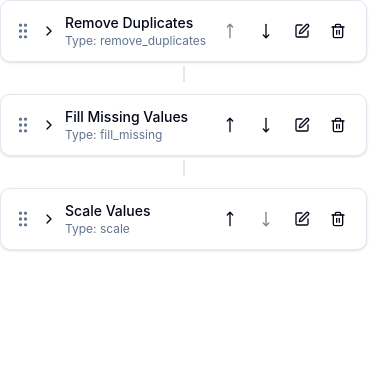
Test: TransformationChainView › Expand/Collapse Functionality › should collapse step details when collapse button clicked
What coordinates should you click on to do the following:
click the button named "expand step"
I would click on:
 (49, 31)
Its box is top-left (41, 23), bottom-right (57, 39).
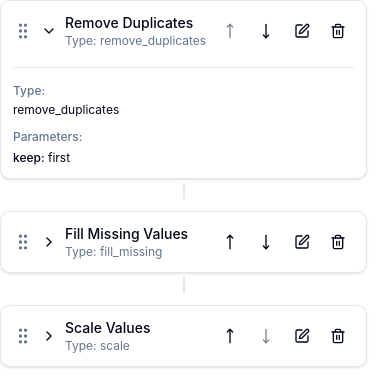
expect the text "Parameters:" is shown: met, box top-left (13, 129), bottom-right (82, 144)
What coordinates should you click on to do the following:
click the button named "collapse step 1"
I would click on:
 (49, 31)
Its box is top-left (41, 23), bottom-right (57, 39).
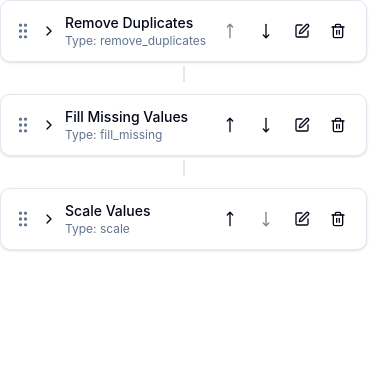
expect the text "keep:" is gone: met
